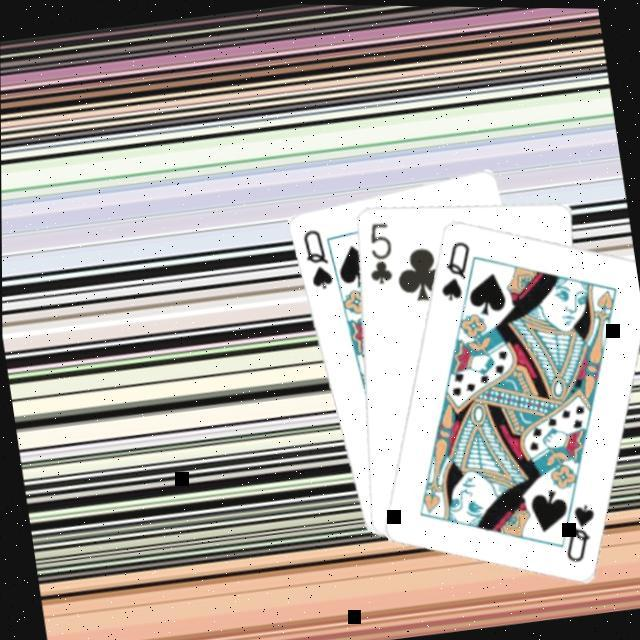5C: (356, 217, 396, 288)
QS: (427, 235, 478, 306), (553, 499, 601, 567), (295, 225, 334, 295)
